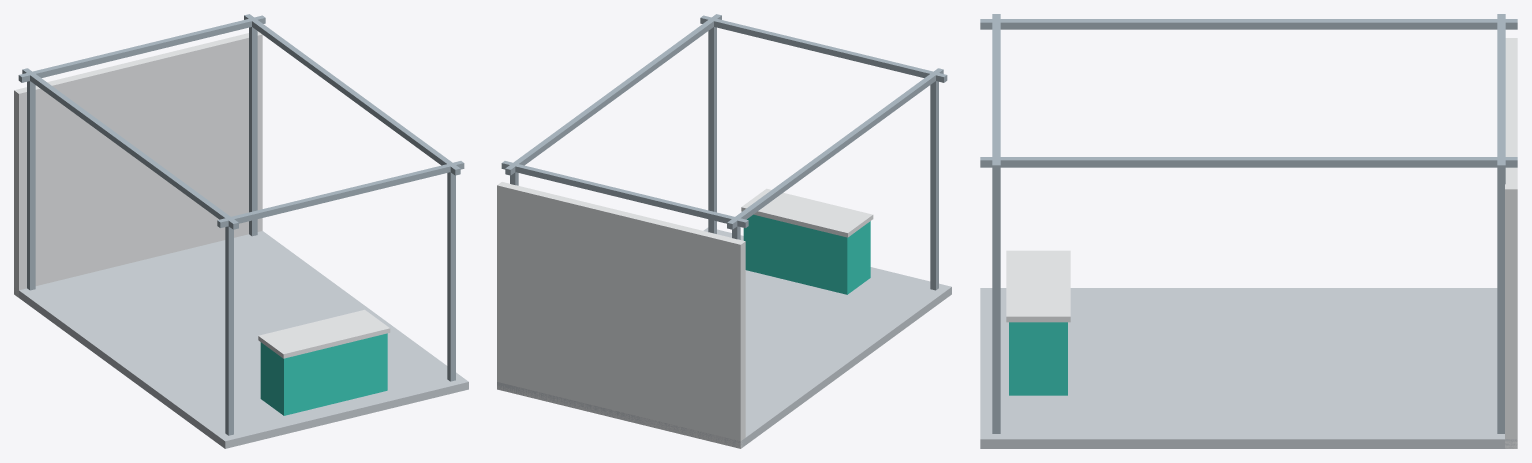
3 renders of one model, left to right at view 1: azimuth 30°, elevation 25°; view 2: azimuth 150°, elevation 25°; view 3: azimuth 270°, elevation 25°, orthographic. The views are drawn at different scales.
Visible parts, largest first — view 1: Exhibition Booth Concept; view 2: Exhibition Booth Concept; view 3: Exhibition Booth Concept.
Boxes of the visible parts, x1,y1,x2,y2 form: Exhibition Booth Concept: [14, 14, 468, 448]; Exhibition Booth Concept: [497, 14, 951, 448]; Exhibition Booth Concept: [980, 14, 1517, 448].
Size of the model in its own units: 4 by 3.49 by 6.
